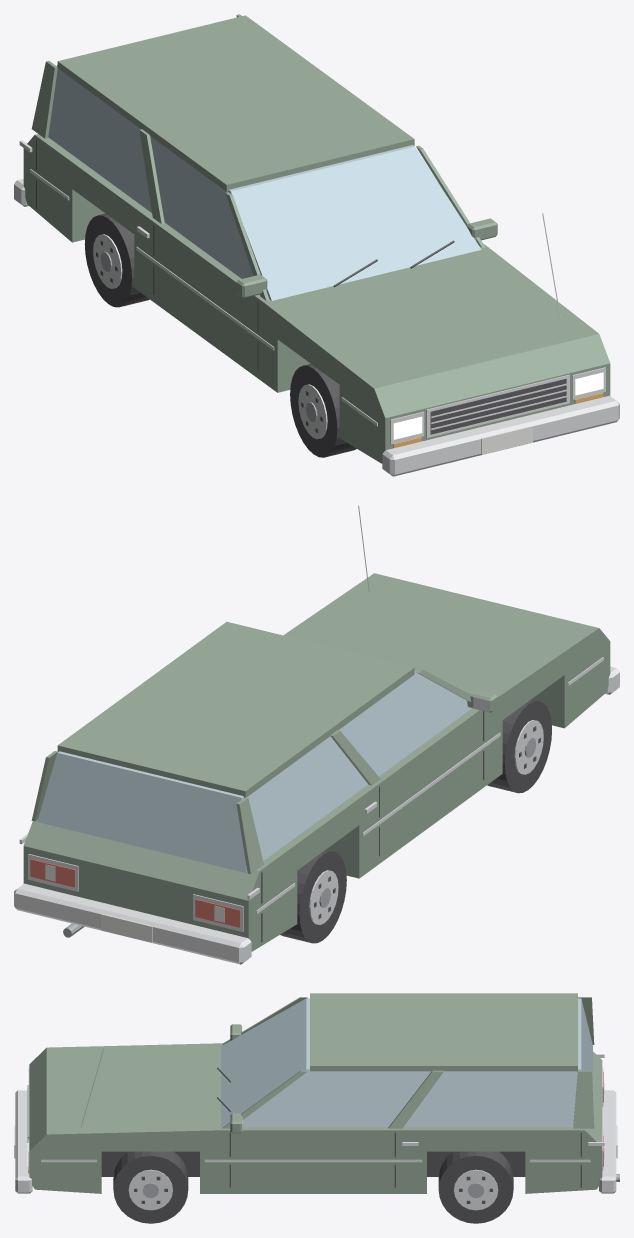
File: car_wagon_g.glb
3 views of the same model, one above another, from view 1: azimuth 30°, elevation 25°; view 2: azimuth 150°, elevation 25°; view 3: azimuth 270°, elevation 25° (orthographic). The views are drawn at different scales.
Parts seen in each view (by area): view 1: car_wagon_g_car_g, car_wagon_g_glass, car_wagon_g_chrome, car_wagon_g_rubber, car_wagon_g_dark, car_wagon_g_lamp_glass, car_wagon_g_paint_w; view 2: car_wagon_g_car_g, car_wagon_g_glass, car_wagon_g_chrome, car_wagon_g_rubber, car_wagon_g_neon_r, car_wagon_g_paint_w; view 3: car_wagon_g_car_g, car_wagon_g_glass, car_wagon_g_rubber, car_wagon_g_chrome, car_wagon_g_dark, car_wagon_g_steel.
Part boxes in pixels (box(x1,y1,x2,y2)): car_wagon_g_car_g: box(23, 14, 610, 463); car_wagon_g_glass: box(48, 64, 481, 300); car_wagon_g_chrome: box(14, 140, 619, 476); car_wagon_g_rubber: box(84, 213, 356, 457); car_wagon_g_dark: box(36, 138, 566, 434); car_wagon_g_lamp_glass: box(393, 372, 603, 439); car_wagon_g_paint_w: box(481, 426, 532, 454); car_wagon_g_car_g: box(23, 573, 610, 951); car_wagon_g_glass: box(37, 671, 471, 872); car_wagon_g_chrome: box(14, 505, 619, 964); car_wagon_g_rubber: box(280, 699, 551, 943); car_wagon_g_neon_r: box(30, 859, 240, 927); car_wagon_g_paint_w: box(45, 864, 224, 942); car_wagon_g_car_g: box(29, 993, 602, 1193); car_wagon_g_glass: box(221, 998, 592, 1127); car_wagon_g_rubber: box(101, 1151, 525, 1223); car_wagon_g_chrome: box(15, 1048, 616, 1210); car_wagon_g_dark: box(27, 1067, 581, 1203); car_wagon_g_steel: box(142, 1174, 619, 1197).
Size of the model in its own units: 2 by 1.6 by 5.18.
